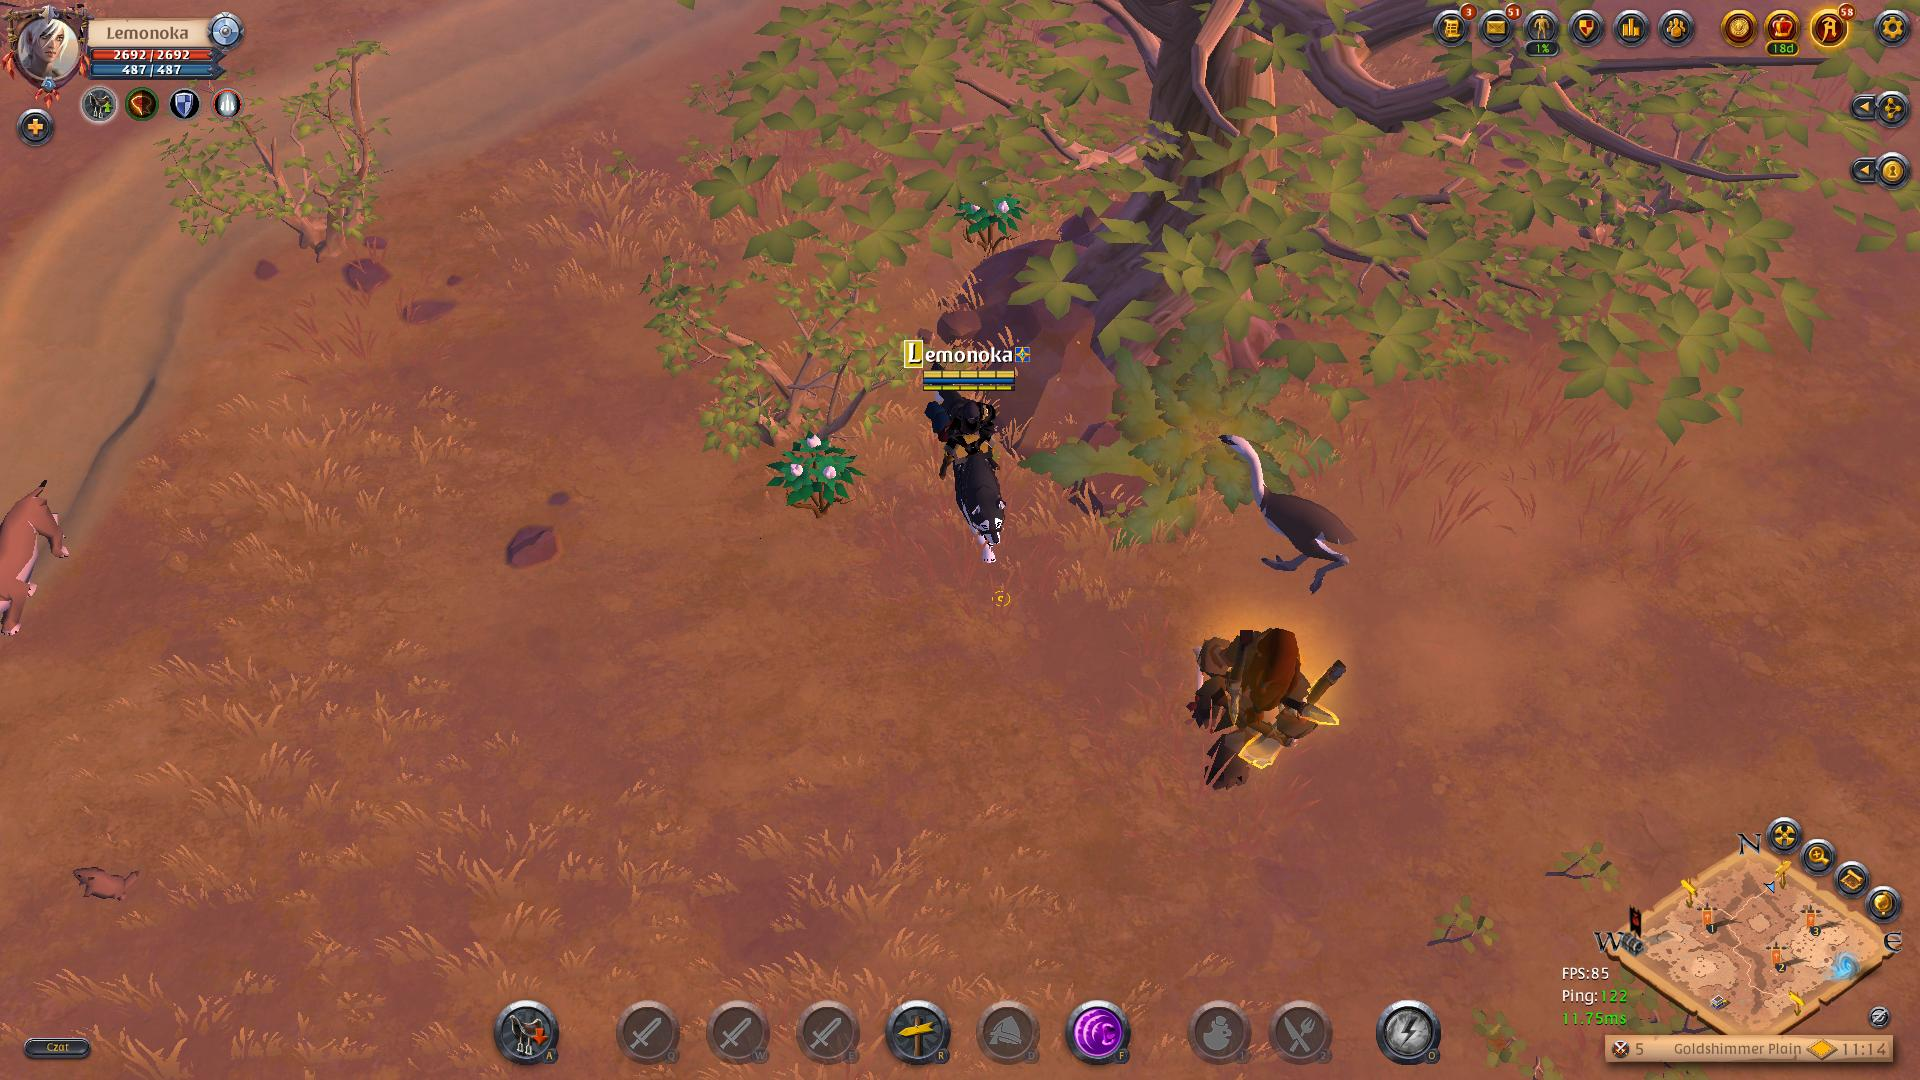fiber tier 3: (765, 429, 868, 524)
